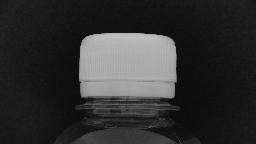Good Cap: (70, 30, 182, 114)
